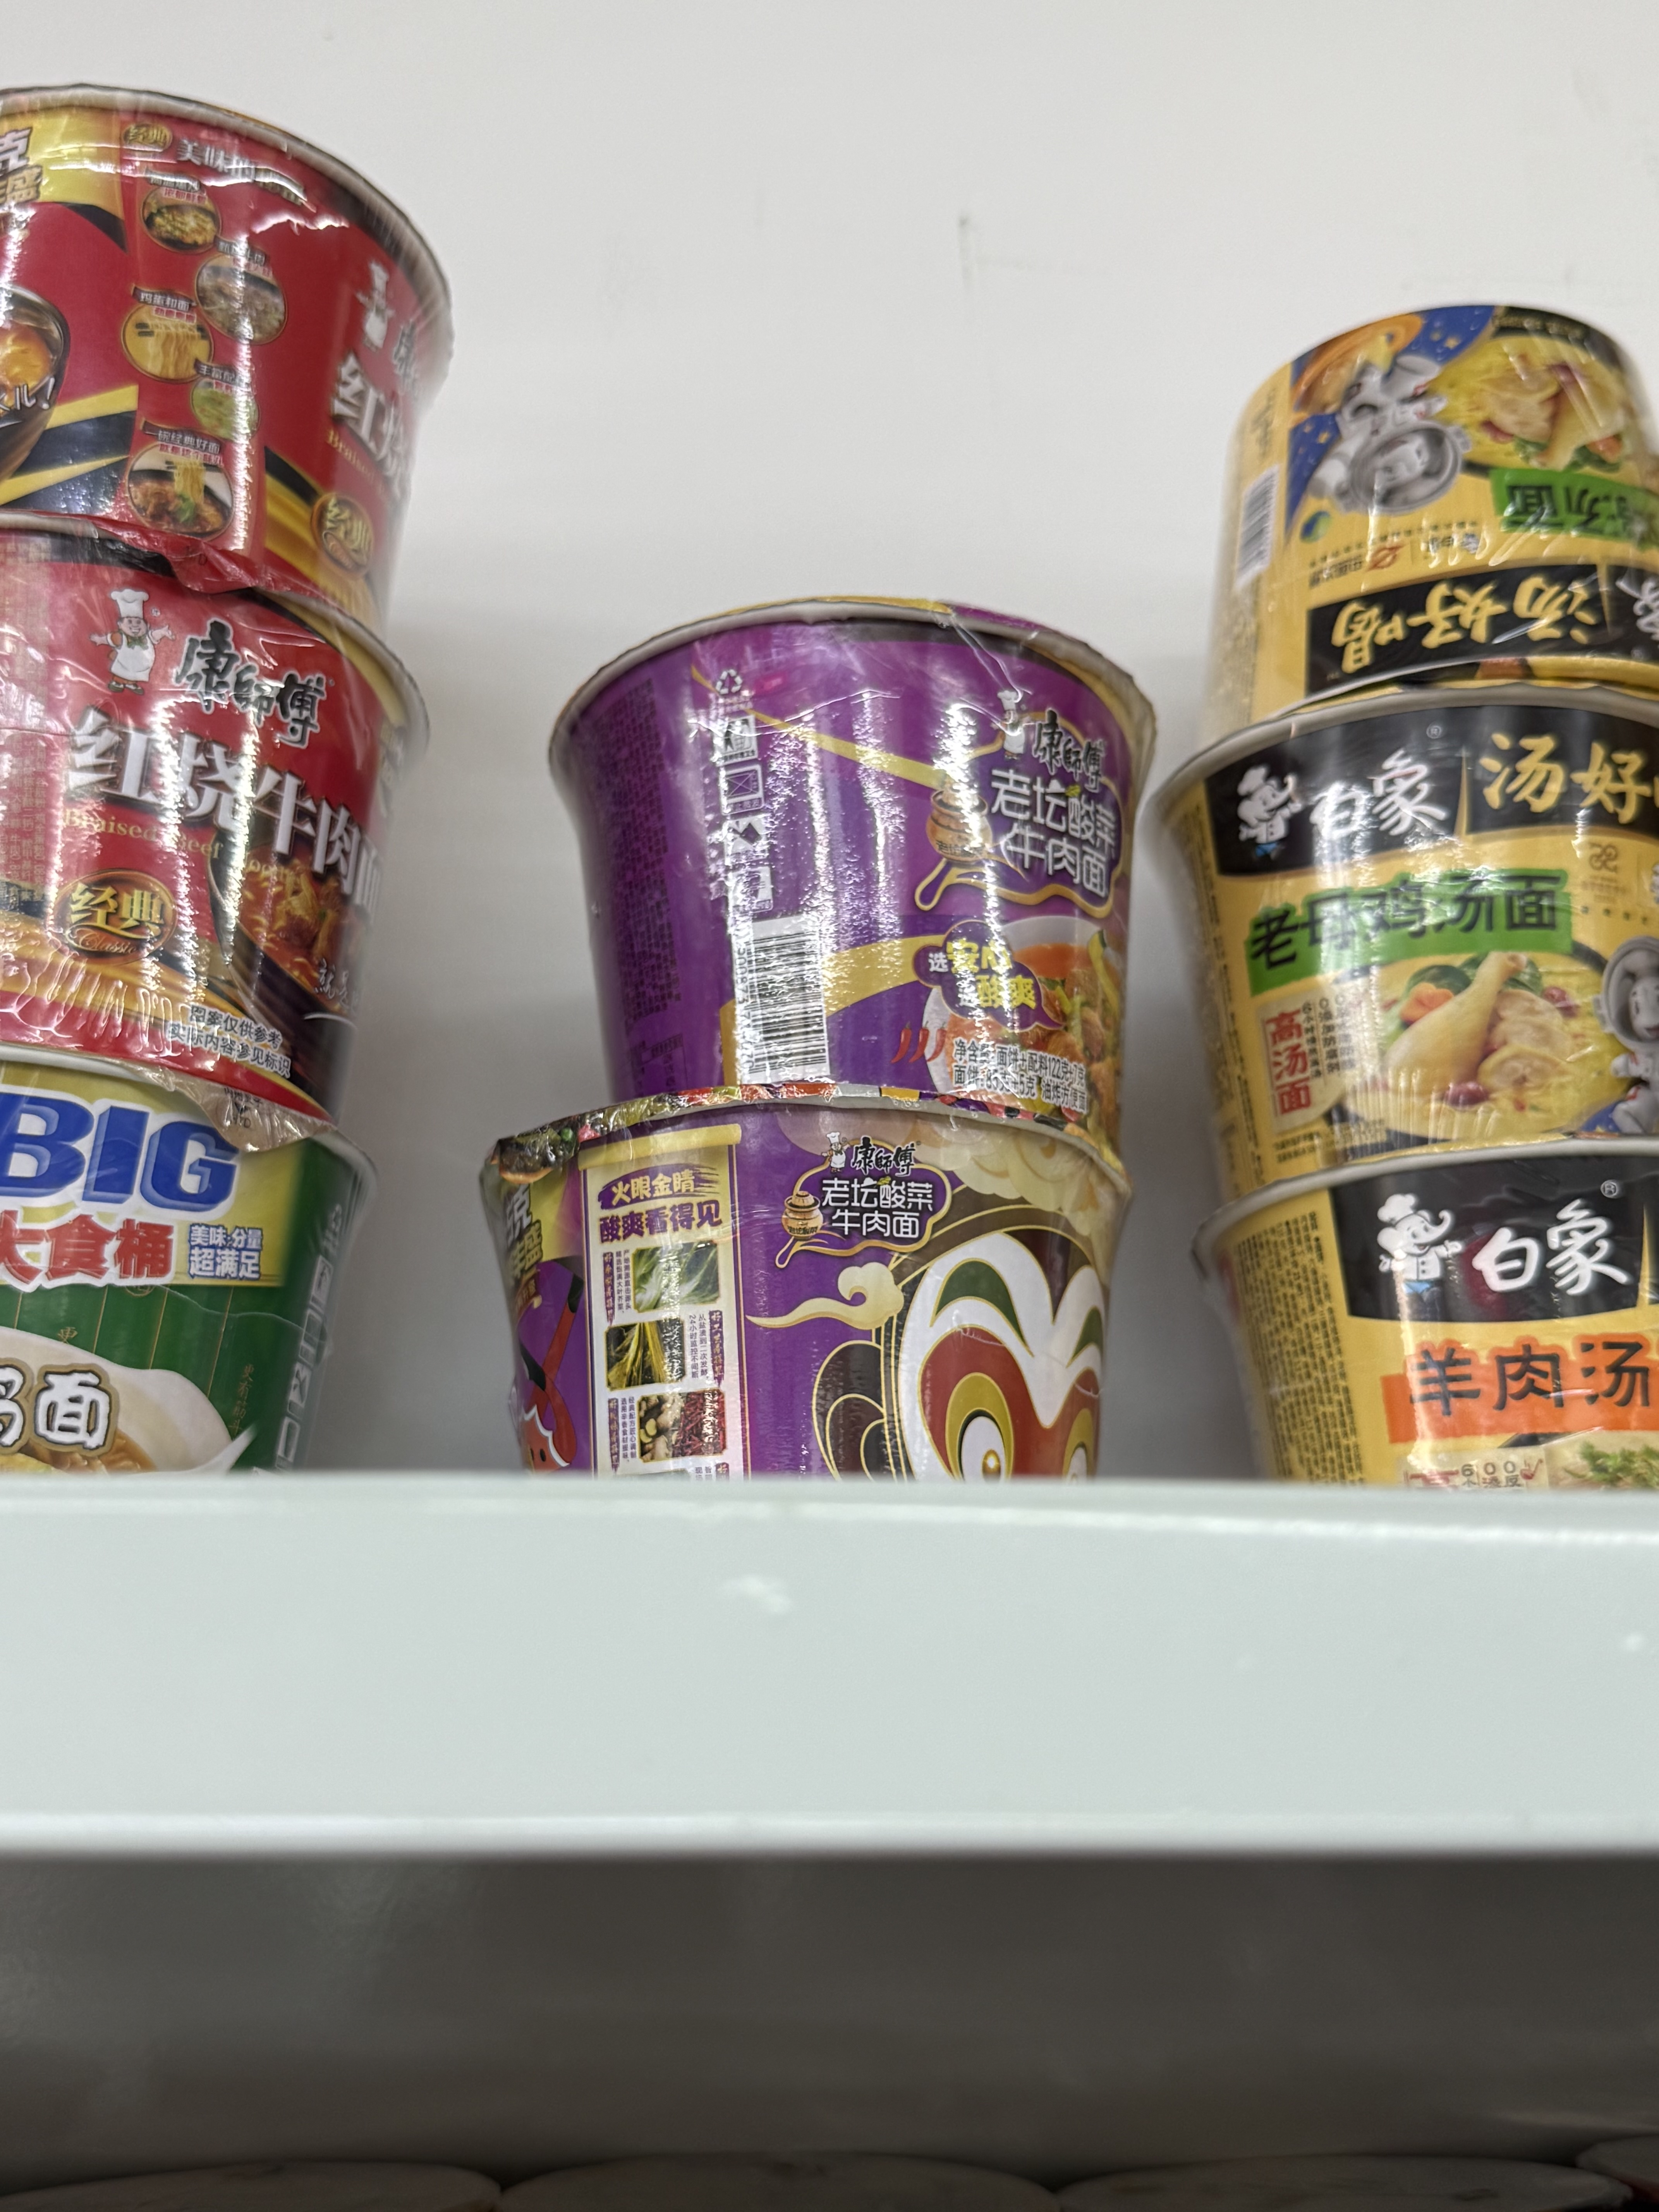bar: (732, 930, 840, 1078)
